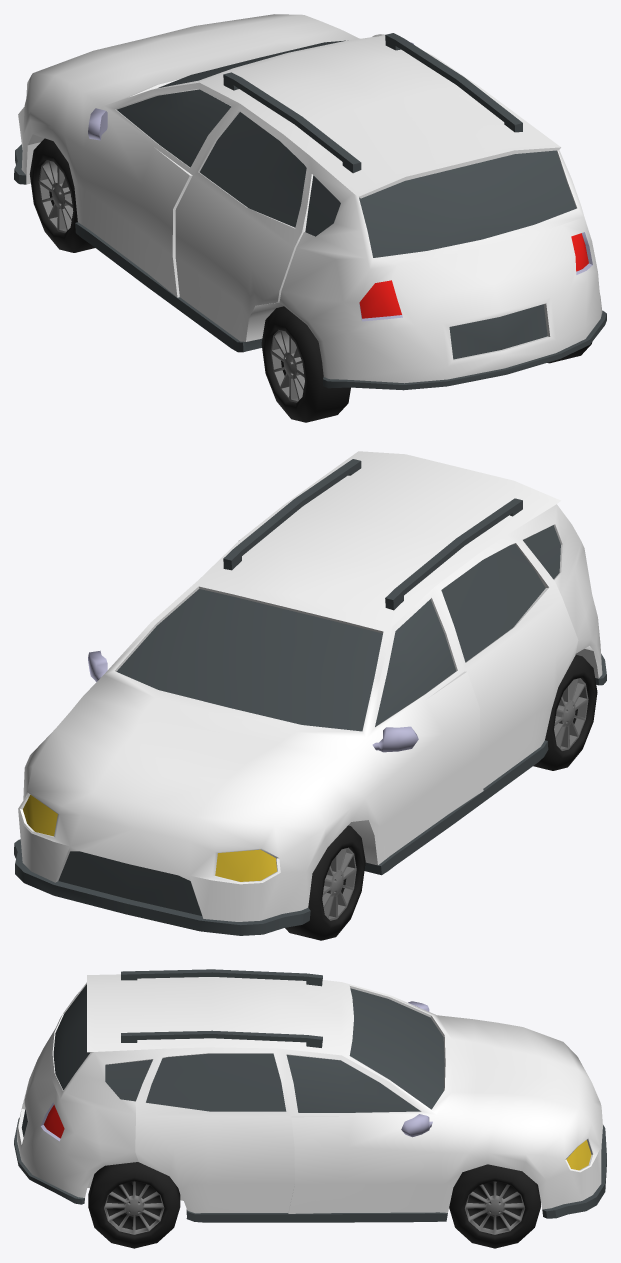
The model's file is SUV.fbx.
The picture shows the model from 3 angles, top to bottom: view 1: azimuth 30°, elevation 25°; view 2: azimuth 150°, elevation 25°; view 3: azimuth 270°, elevation 25°; orthographic projection. The views are drawn at different scales.
Visible parts, largest first — view 1: SUV, SUV_Wheels, SUV_Wheels_Left; view 2: SUV, SUV_Wheels_Left, SUV_Wheels; view 3: SUV, SUV_Wheels, SUV_Wheels_Right.
Boxes of the visible parts, x1,y1,x2,y2 form: SUV: [14, 14, 606, 390]; SUV_Wheels: [261, 306, 592, 422]; SUV_Wheels_Left: [29, 138, 94, 252]; SUV: [14, 451, 606, 935]; SUV_Wheels_Left: [285, 825, 365, 940]; SUV_Wheels: [533, 655, 597, 770]; SUV: [14, 969, 606, 1222]; SUV_Wheels: [88, 1162, 180, 1248]; SUV_Wheels_Right: [449, 1164, 540, 1248].
Bounding box in the file's own units: 2.11 × 1.53 × 4.21.
